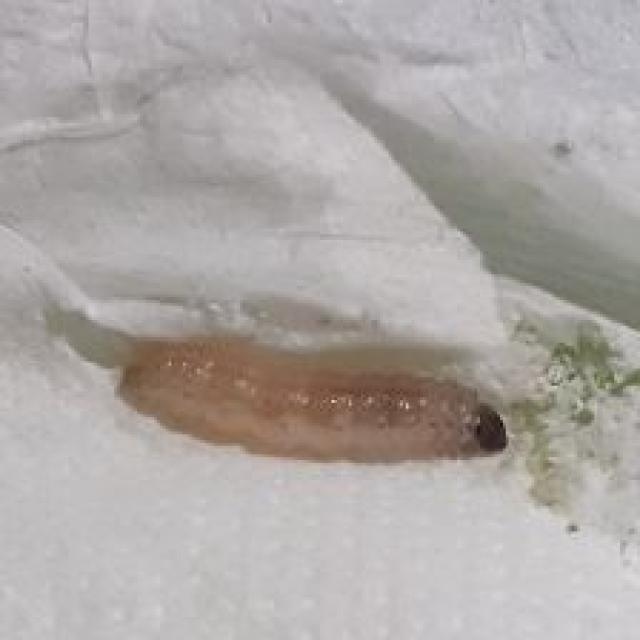white mucus: (122, 328, 550, 518)
